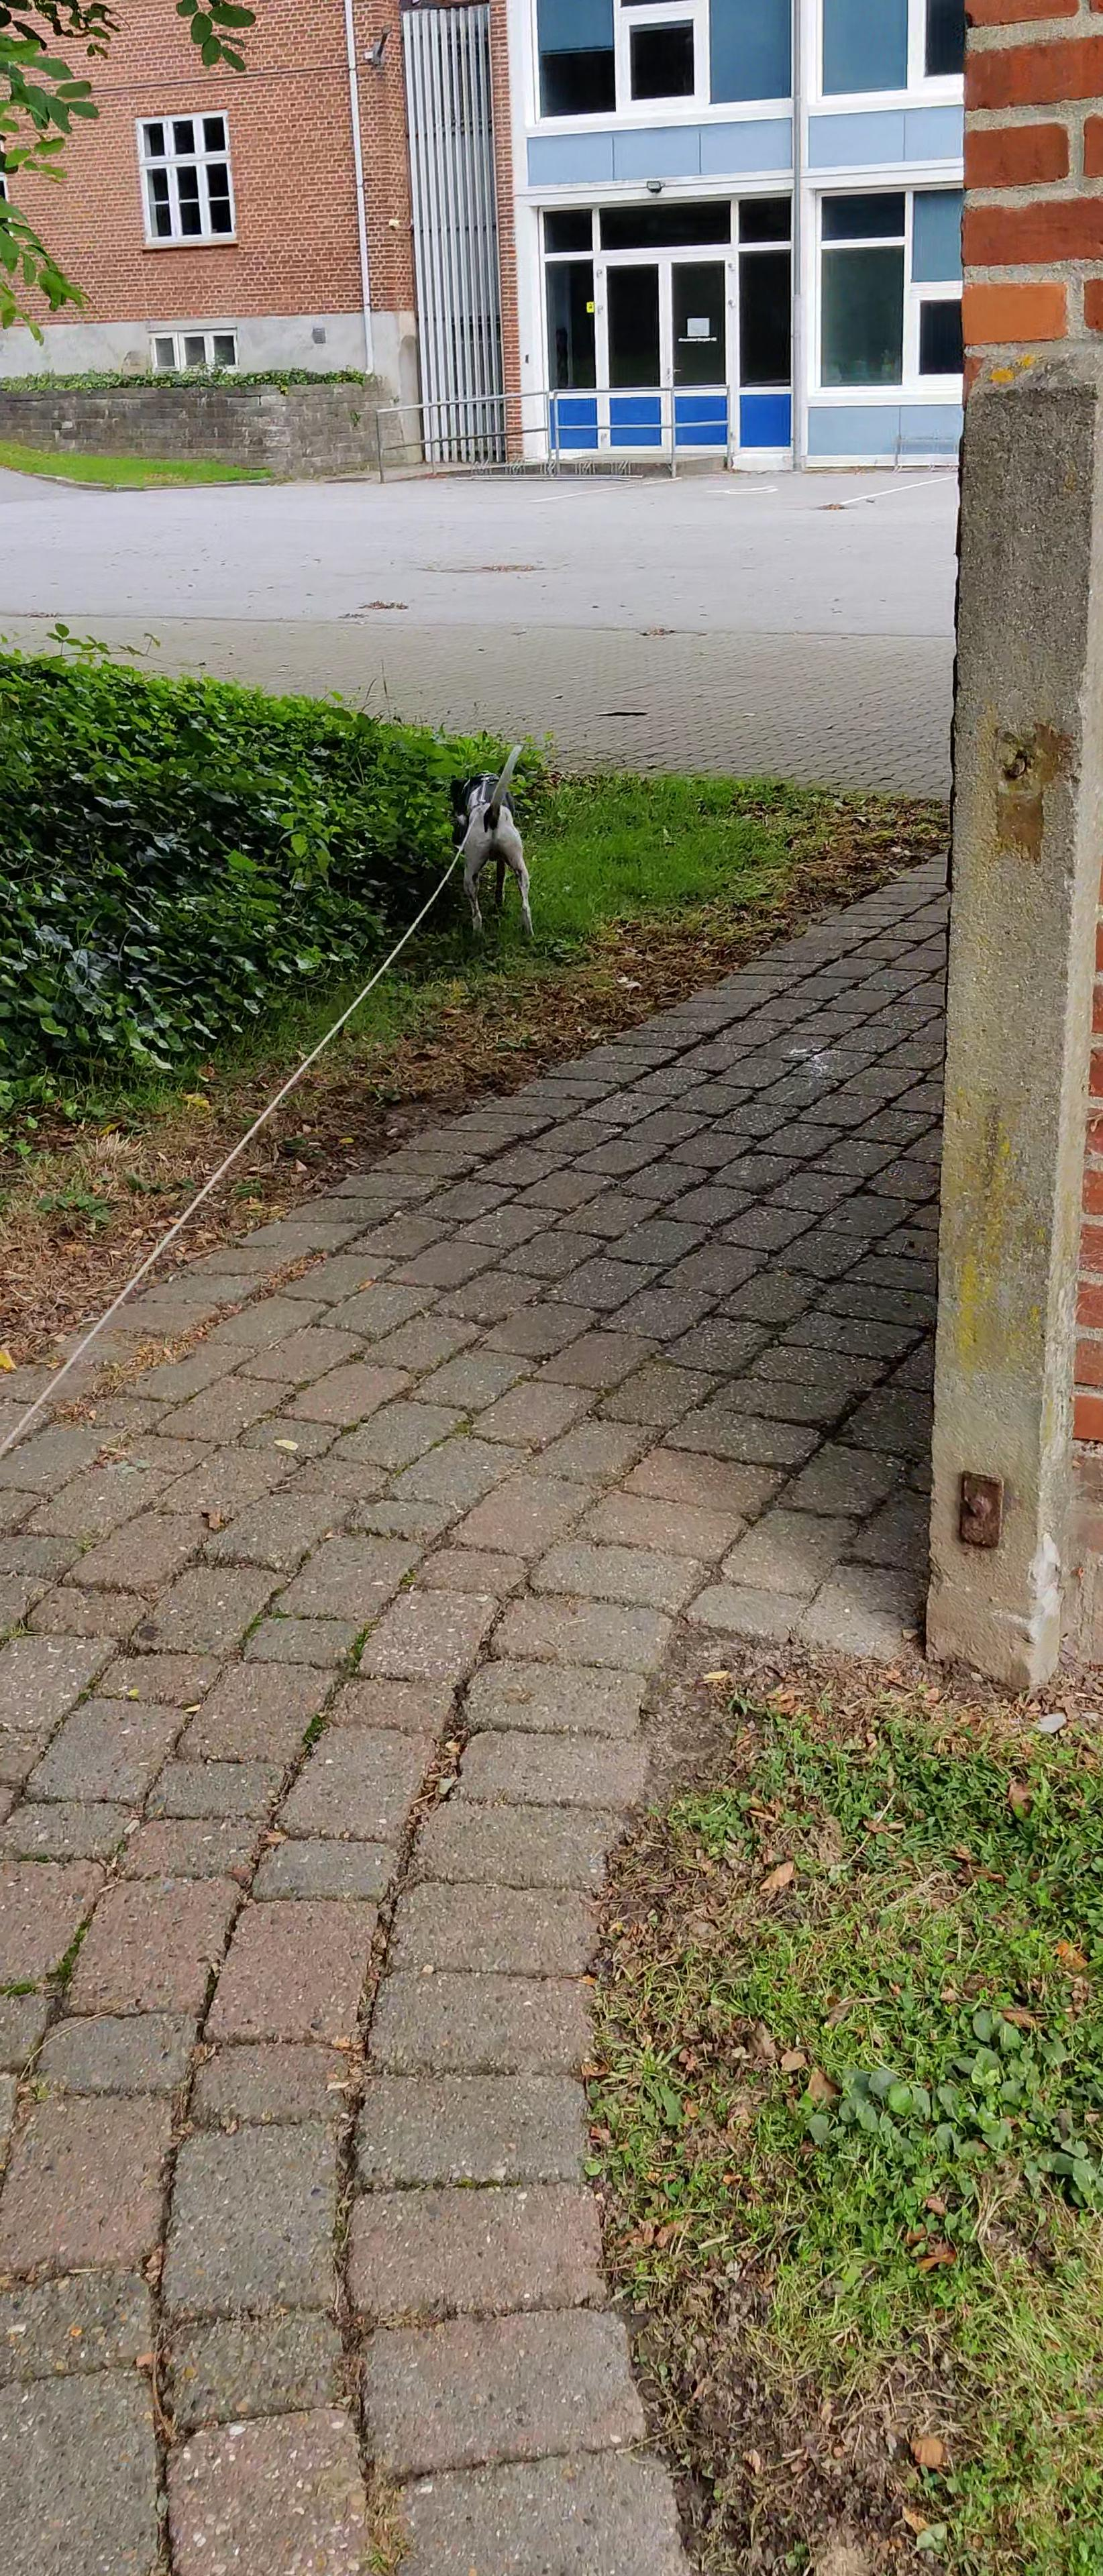Dog: (444, 739, 541, 950)
